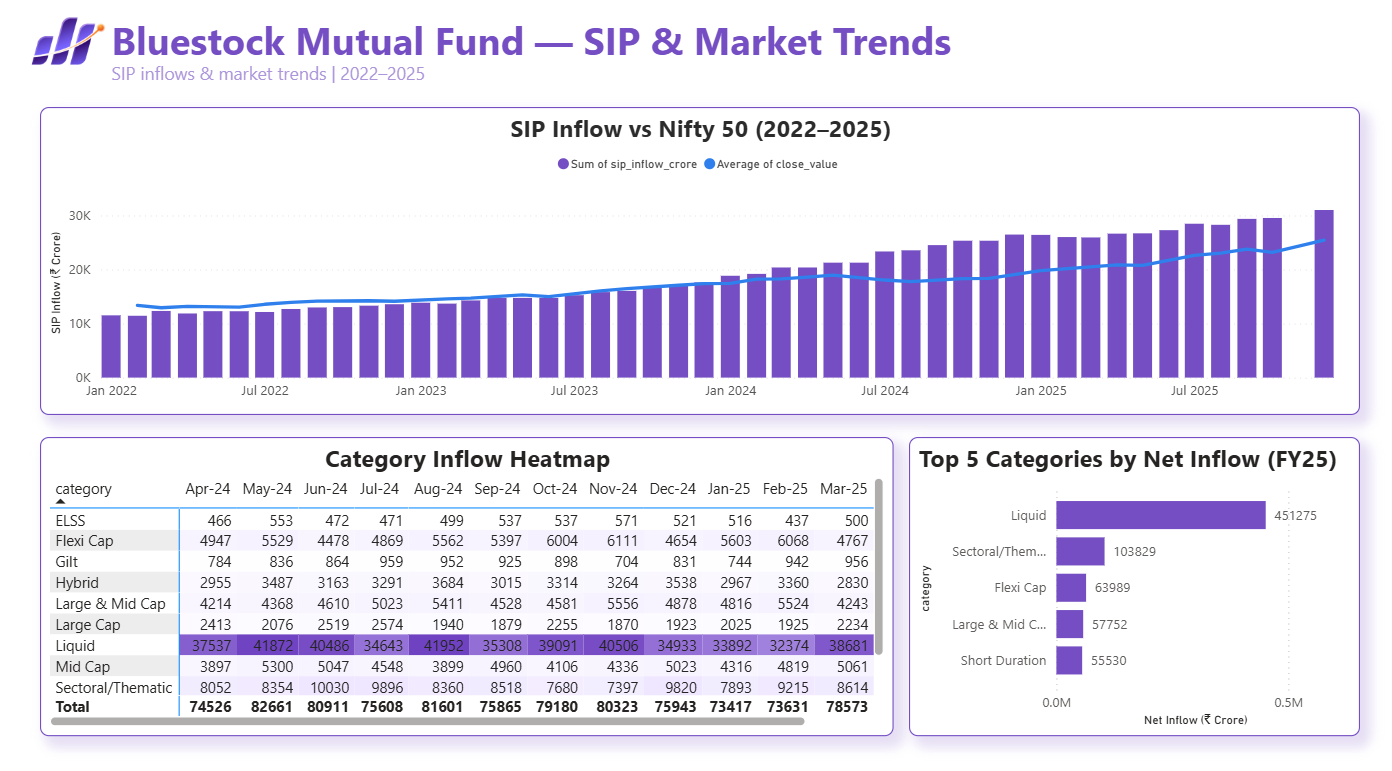

This screenshot's page, from the dashboard's own definition file:
{"tool":"powerbi","page":{"name":"SIP & Market Trends","canvas":[1280,720],"ordinal":3},"visuals":[{"type":"textbox","title":"Bluestock Mutual Fund — SIP & Market Trends ","box":[100,15,1000,40],"z":0},{"type":"textbox","title":"SIP inflows & market trends | 2022–2025 ","box":[100,58,1000,20],"z":1000},{"type":"lineClusteredColumnComboChart","title":"SIP Inflow vs Nifty 50 (2022–2025)","fields":{"Y":["Sum(04_monthly_sip_inflows_cleaned.sip_inflow_crore)"],"Y2":["Avg(10_benchmark_indices_cleaned.close_value)"],"Category":["DateTable.Date"]},"box":[40,100,1200,280],"z":2000},{"type":"pivotTable","title":"Category Inflow Heatmap","fields":{"Rows":["05_category_inflows_cleaned.category"],"Columns":["05_category_inflows_cleaned.Month Year"],"Values":["Sum(05_category_inflows_cleaned.net_inflow_crore)"]},"box":[40,400,776,272],"z":3000},{"type":"clusteredBarChart","title":"Top 5 Categories by Net Inflow (FY25)","fields":{"Y":["Sum(05_category_inflows_cleaned.net_inflow_crore)"],"Category":["05_category_inflows_cleaned.category"]},"box":[830,400,410,272],"z":4000},{"type":"image","box":[0,0,128,80],"z":5000}]}

Visuals, with their boxes in screenshot pixels (x1, y1, x2, y2), scaled from the page's 1280x720 canvas onto the 1392x771 screenshot:
"Bluestock Mutual Fund — SIP & Market Trends " textbox: locate(109, 16, 1196, 59)
"SIP inflows & market trends | 2022–2025 " textbox: locate(109, 62, 1196, 84)
"SIP Inflow vs Nifty 50 (2022–2025)" lineClusteredColumnComboChart: locate(44, 107, 1348, 407)
"Category Inflow Heatmap" pivotTable: locate(44, 428, 887, 720)
"Top 5 Categories by Net Inflow (FY25)" clusteredBarChart: locate(903, 428, 1348, 720)
image: locate(0, 0, 139, 86)
